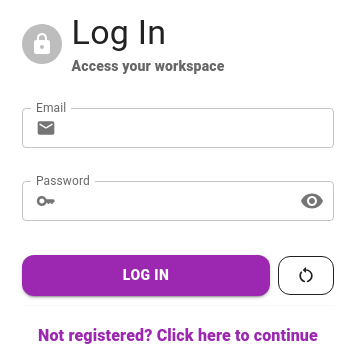
Test: LogInForm › prevents submit on invalid input and shows validation errors
Click the button "Log in" at (146, 275), box [22,255,270,296]
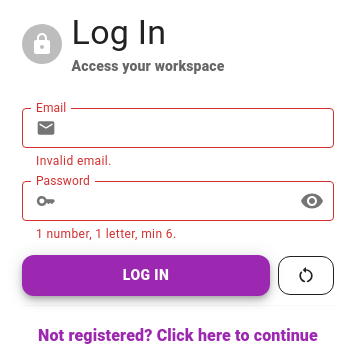
expect the text "Invalid email." is shown: met, box [36,154,112,168]
expect the text "1 number, 1 letter, min 6." is shown: met, box [36,227,176,241]
